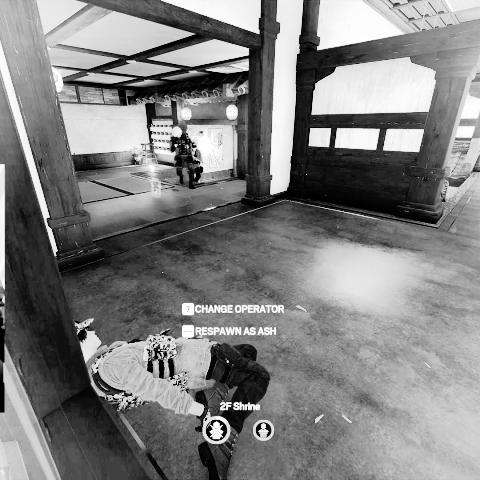Character: (74, 317, 272, 480), (169, 126, 196, 190), (191, 141, 205, 182)
Head: (76, 318, 103, 357), (172, 126, 183, 138), (192, 143, 198, 150)
